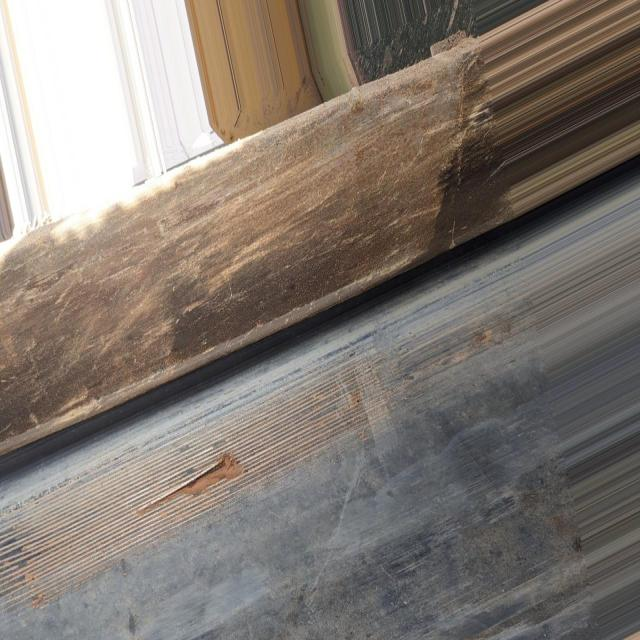impact damage: (10, 315, 443, 595)
